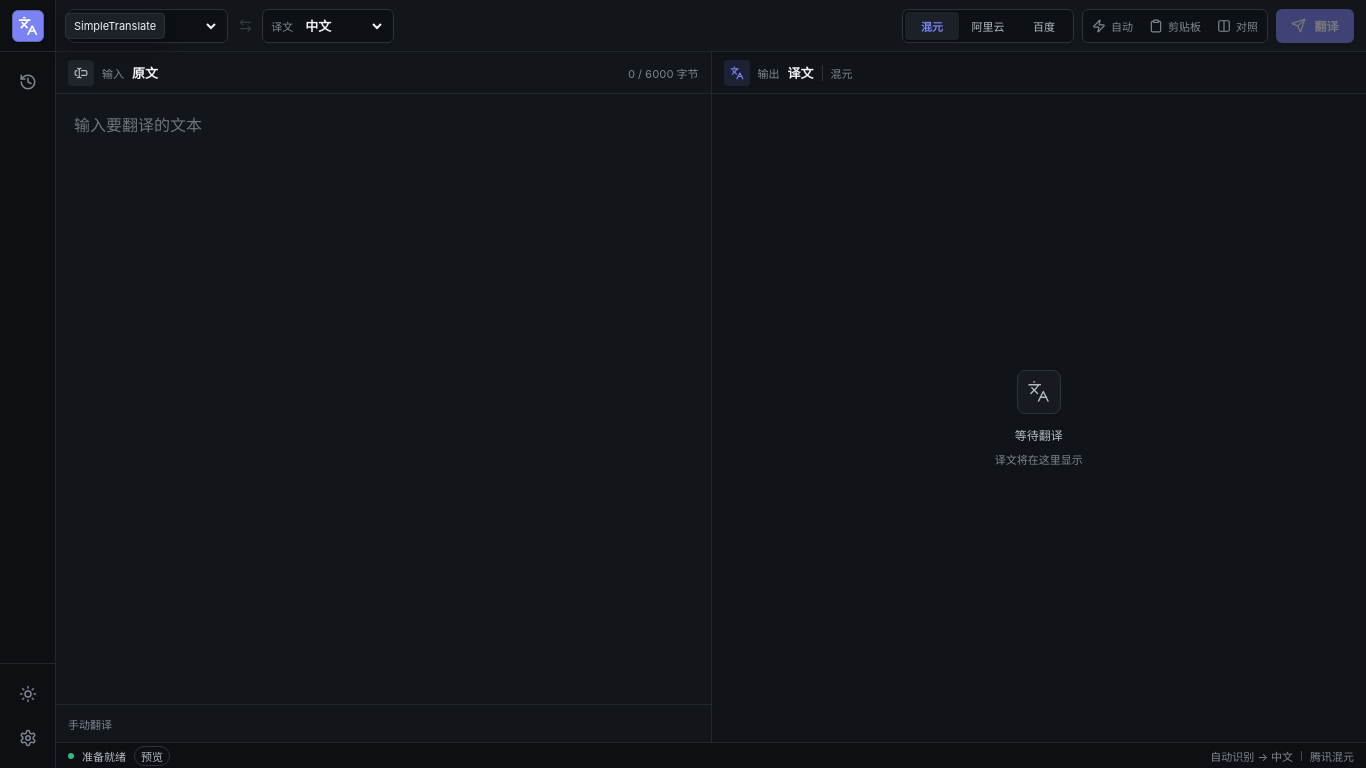
Test: standalone app › exposes an immediate cancel action for an in-flight translation
In the text box named "原文": (383, 399) [56,94,710,704], type "hello"
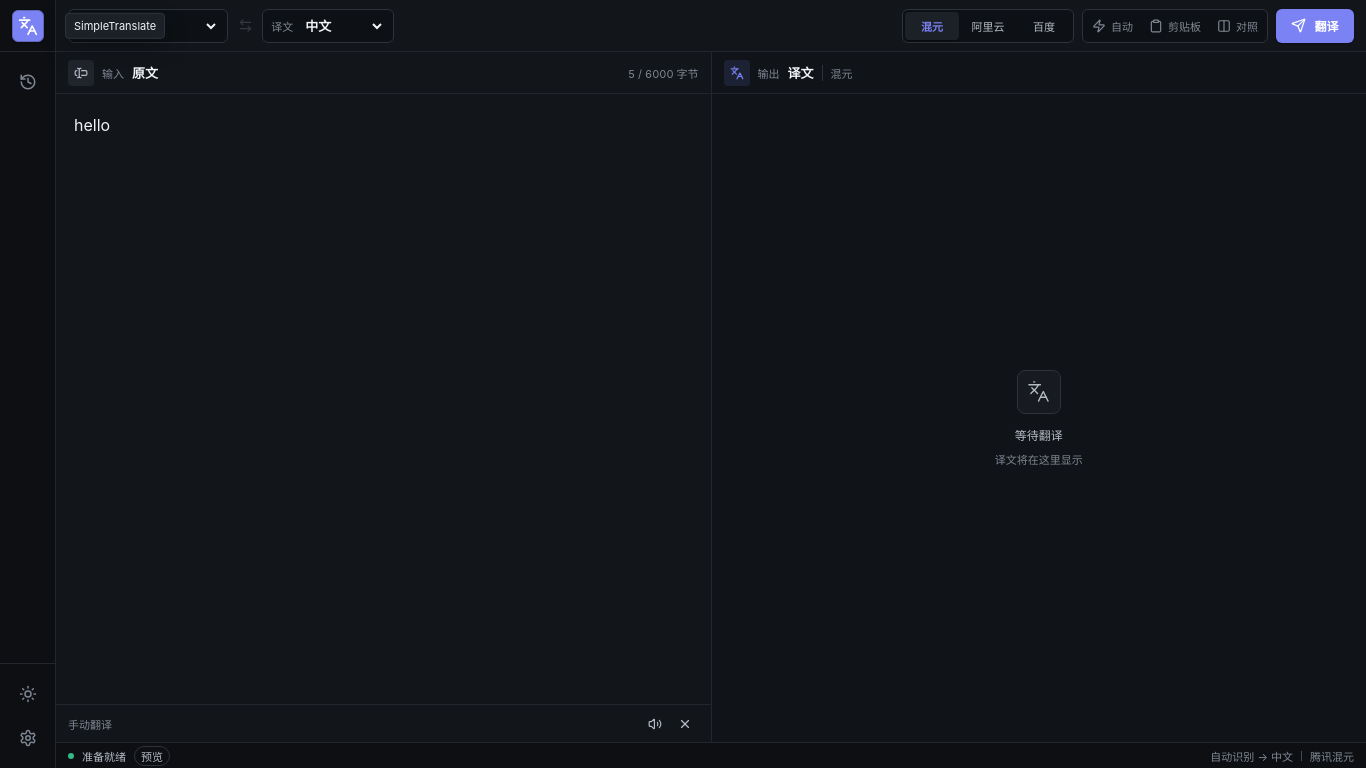
Click the button "翻译": (1315, 26) [1276,8,1354,42]
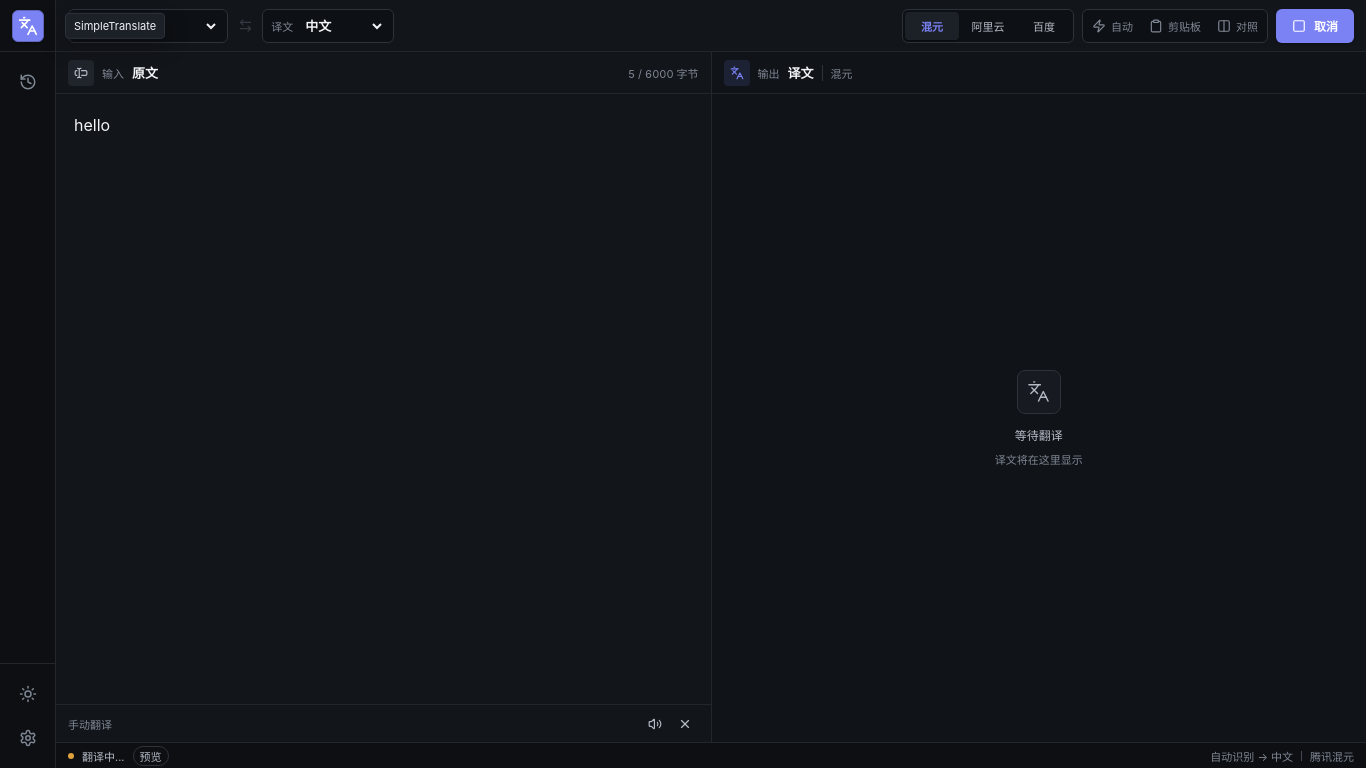
Expected: the button with aria-label "取消翻译" has attribute aria-busy="true"
Click the button with aria-label "取消翻译": (1315, 26) [1276,8,1354,42]
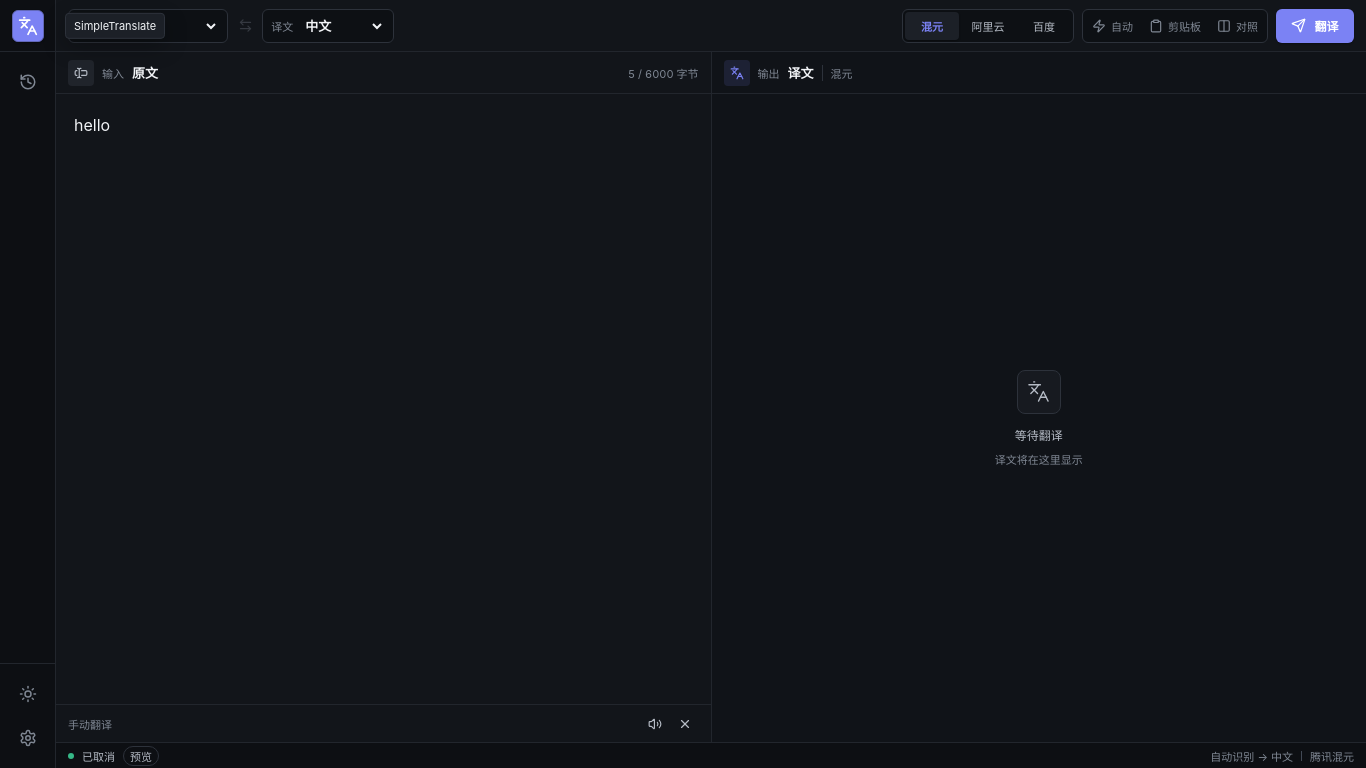
Expected: the text "已取消" is shown, [82,750,115,764]
